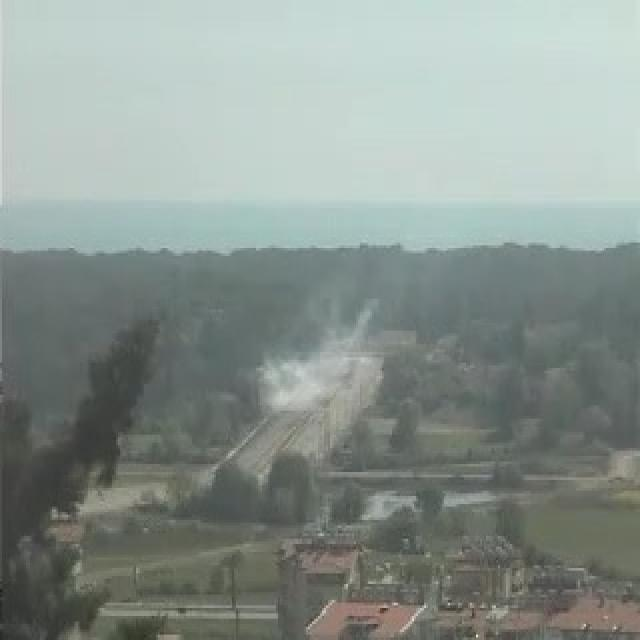smoke: (263, 304, 375, 410)
